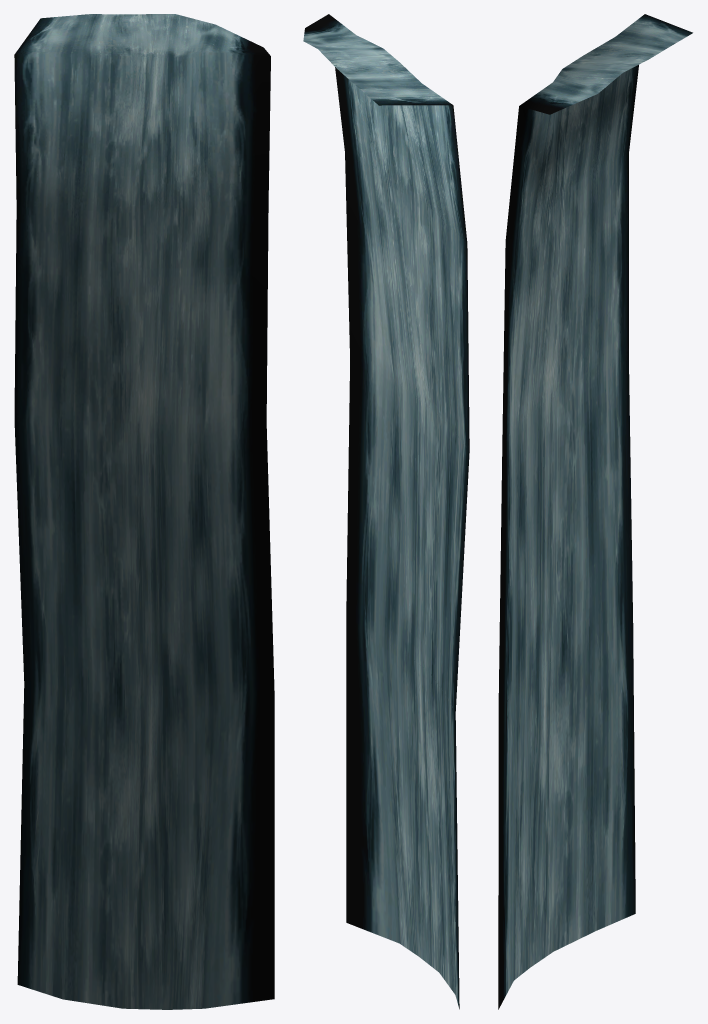
File: object_waterfall.fbx
3 renders of one model, left to right at view 1: azimuth 30°, elevation 25°; view 2: azimuth 150°, elevation 25°; view 3: azimuth 270°, elevation 25°, orthographic. The views are drawn at different scales.
Parts seen in each view (by area): view 1: Material_#238682127; view 2: Material_#238682127; view 3: Material_#238682127.
Part boxes in pixels (box(x1,y1,x2,y2)): Material_#238682127: box(14, 14, 274, 1009); Material_#238682127: box(303, 14, 469, 1009); Material_#238682127: box(498, 14, 692, 1009).
Size of the model in its own units: 10.92 by 47.38 by 9.09.
